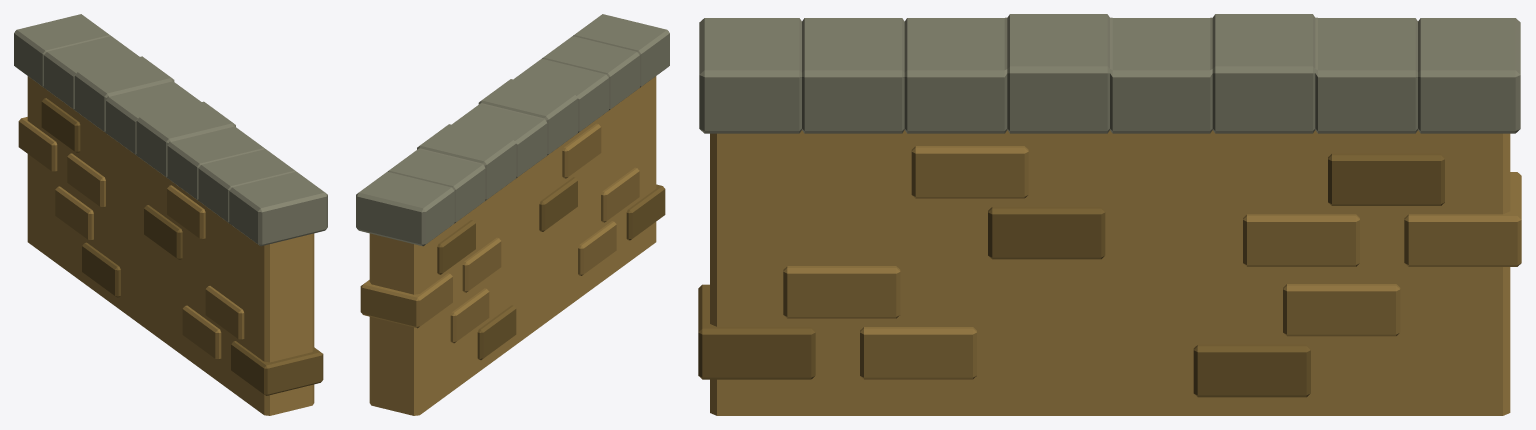
The model's file is SM_Wall_1.fbx.
The picture shows the model from 3 angles, left to right: view 1: azimuth 30°, elevation 25°; view 2: azimuth 150°, elevation 25°; view 3: azimuth 270°, elevation 25°; orthographic projection. The views are drawn at different scales.
Parts seen in each view (by area): view 1: SM_Wall_1_LOD0; view 2: SM_Wall_1_LOD0; view 3: SM_Wall_1_LOD0.
Part boxes in pixels (box(x1,y1,x2,y2)): SM_Wall_1_LOD0: box(14, 14, 327, 415); SM_Wall_1_LOD0: box(356, 14, 669, 415); SM_Wall_1_LOD0: box(698, 14, 1521, 415).
Bounding box in the file's own units: 67.19 × 411 × 196.
1 material, 1 textured.
